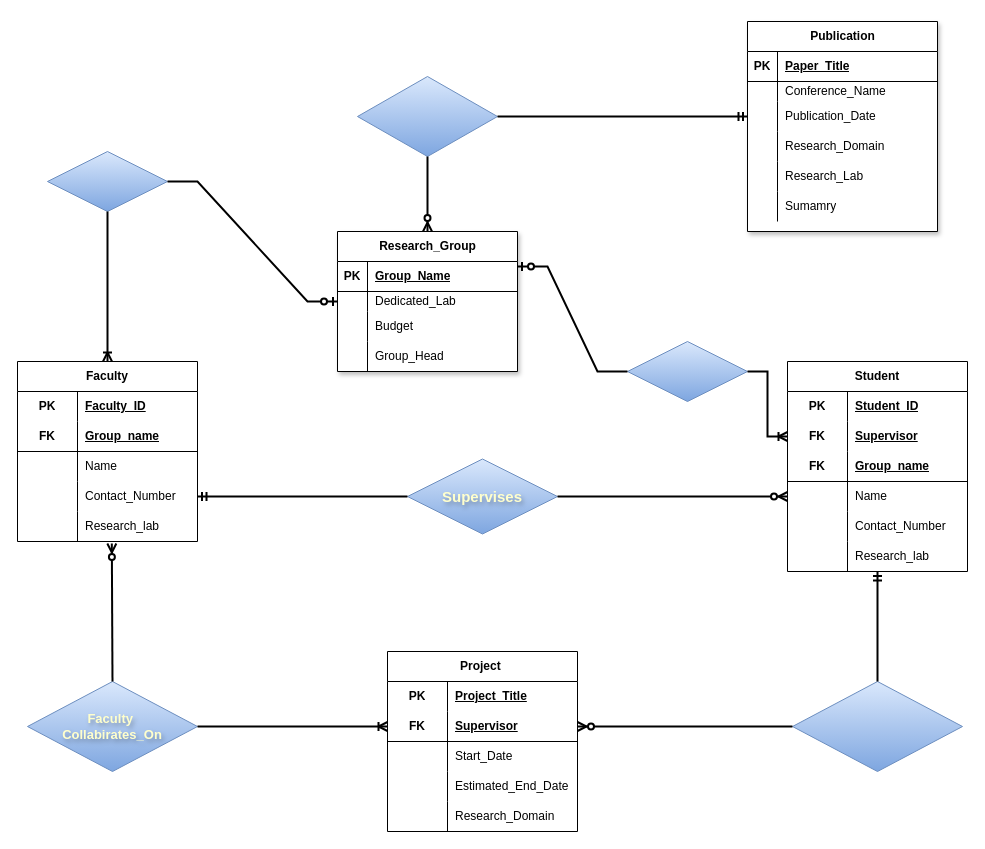
Some shapes in this 985 by 849 pixel diagram are drawn without their labels. The centre of each missing label's shape, as x and y in pixels:
"Authored By" goes at (427,116).
"Belongs To" goes at (107,181).
"Part of" goes at (687,371).
"Student Collabirates_On" goes at (877,726).
